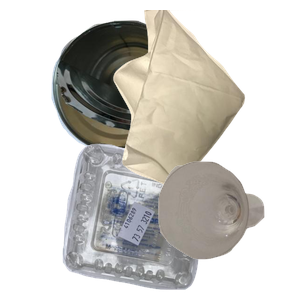glass: (156, 159, 300, 300)
metal: (49, 18, 229, 164)
plastic: (60, 141, 263, 300)
trash: (111, 10, 300, 190)
